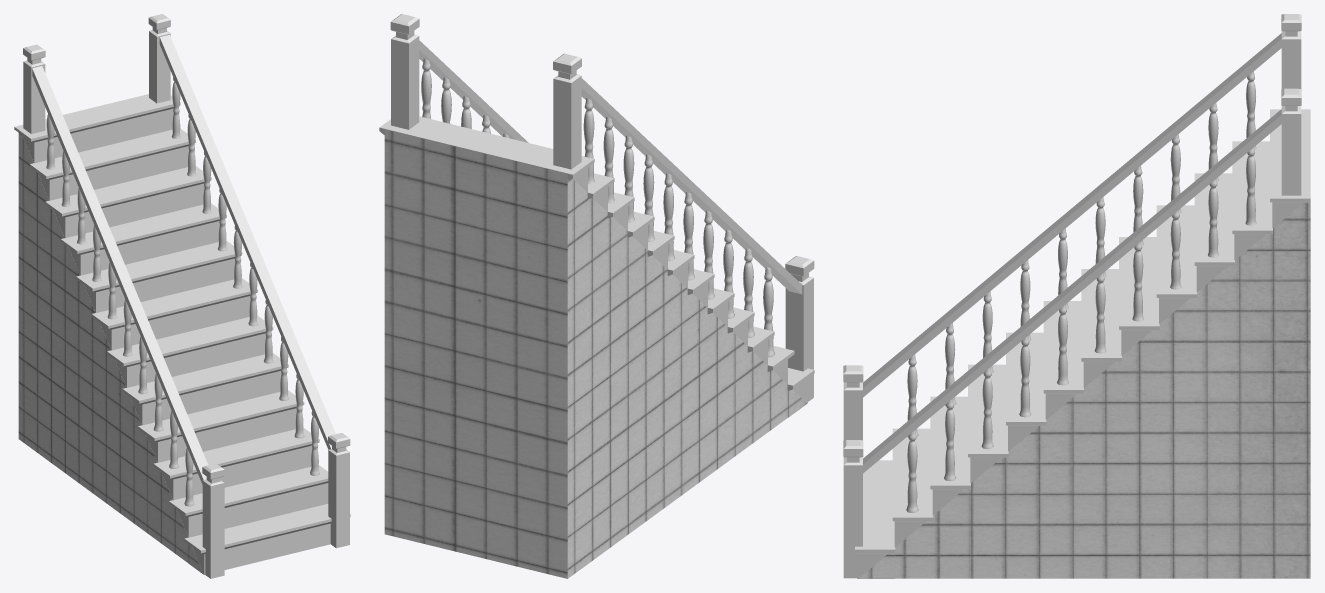
File: den_stairs_full_extended_12.fbx
The picture shows the model from 3 angles, left to right: view 1: azimuth 30°, elevation 25°; view 2: azimuth 150°, elevation 25°; view 3: azimuth 270°, elevation 25°; orthographic projection. The views are drawn at different scales.
Visible parts, largest first — view 1: Cube.018, Cube, Cube.021, Cube.020, Cube.019, Cube.001; view 2: Cube, Cube.018, Cube.020, Cube.001, Cube.021, Cube.019; view 3: Cube, Cube.018, Cube.021, Cube.020, Cube.019, Cube.001.
Boxes of the visible parts, <box> form: Cube.018: <box>14,94,350,574</box>; Cube: <box>18,133,203,574</box>; Cube.021: <box>32,35,335,484</box>; Cube.020: <box>46,77,319,506</box>; Cube.019: <box>202,433,350,578</box>; Cube.001: <box>23,14,170,133</box>; Cube: <box>384,129,806,578</box>; Cube.018: <box>379,116,814,417</box>; Cube.020: <box>421,58,774,357</box>; Cube.001: <box>390,14,581,169</box>; Cube.021: <box>419,40,802,294</box>; Cube.019: <box>785,256,814,401</box>; Cube: <box>859,202,1310,578</box>; Cube.018: <box>855,109,1310,578</box>; Cube.021: <box>863,33,1281,473</box>; Cube.020: <box>906,71,1256,512</box>; Cube.019: <box>843,365,863,578</box>; Cube.001: <box>1281,14,1301,195</box>.
Size of the model in its own units: 211 by 534 by 468.
